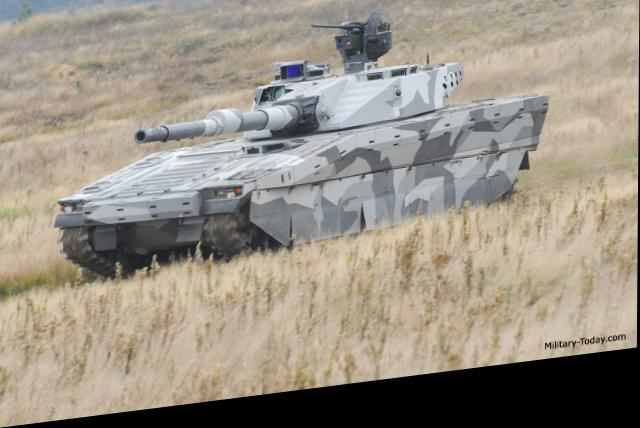tank: (58, 47, 544, 273)
